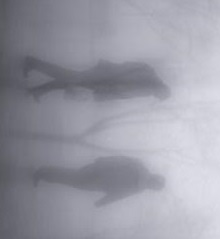person: (23, 54, 172, 103), (32, 156, 165, 208)
